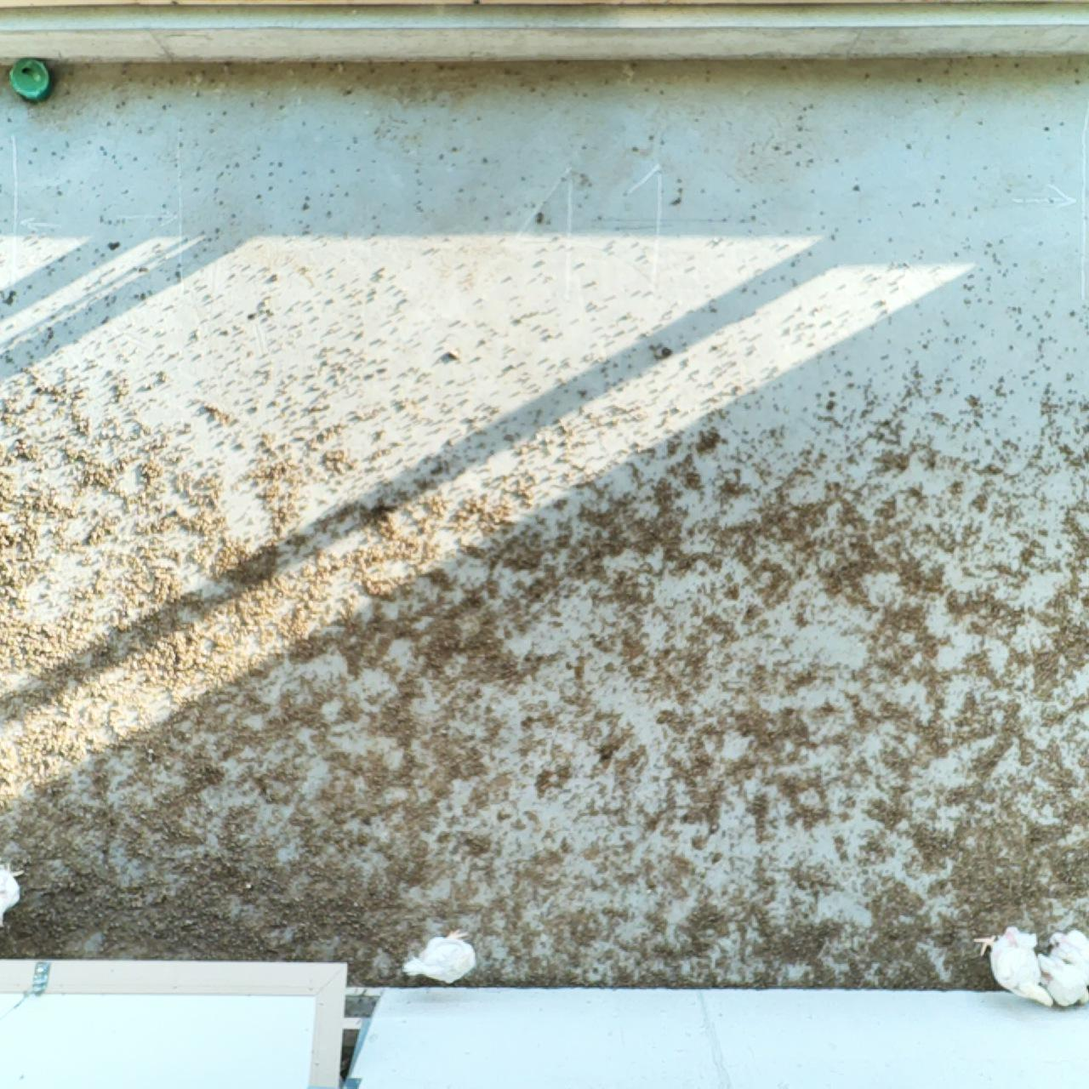chicken: (971, 921, 1058, 1009), (397, 923, 479, 986), (1034, 951, 1089, 1012), (0, 858, 28, 932), (1046, 928, 1089, 965)
